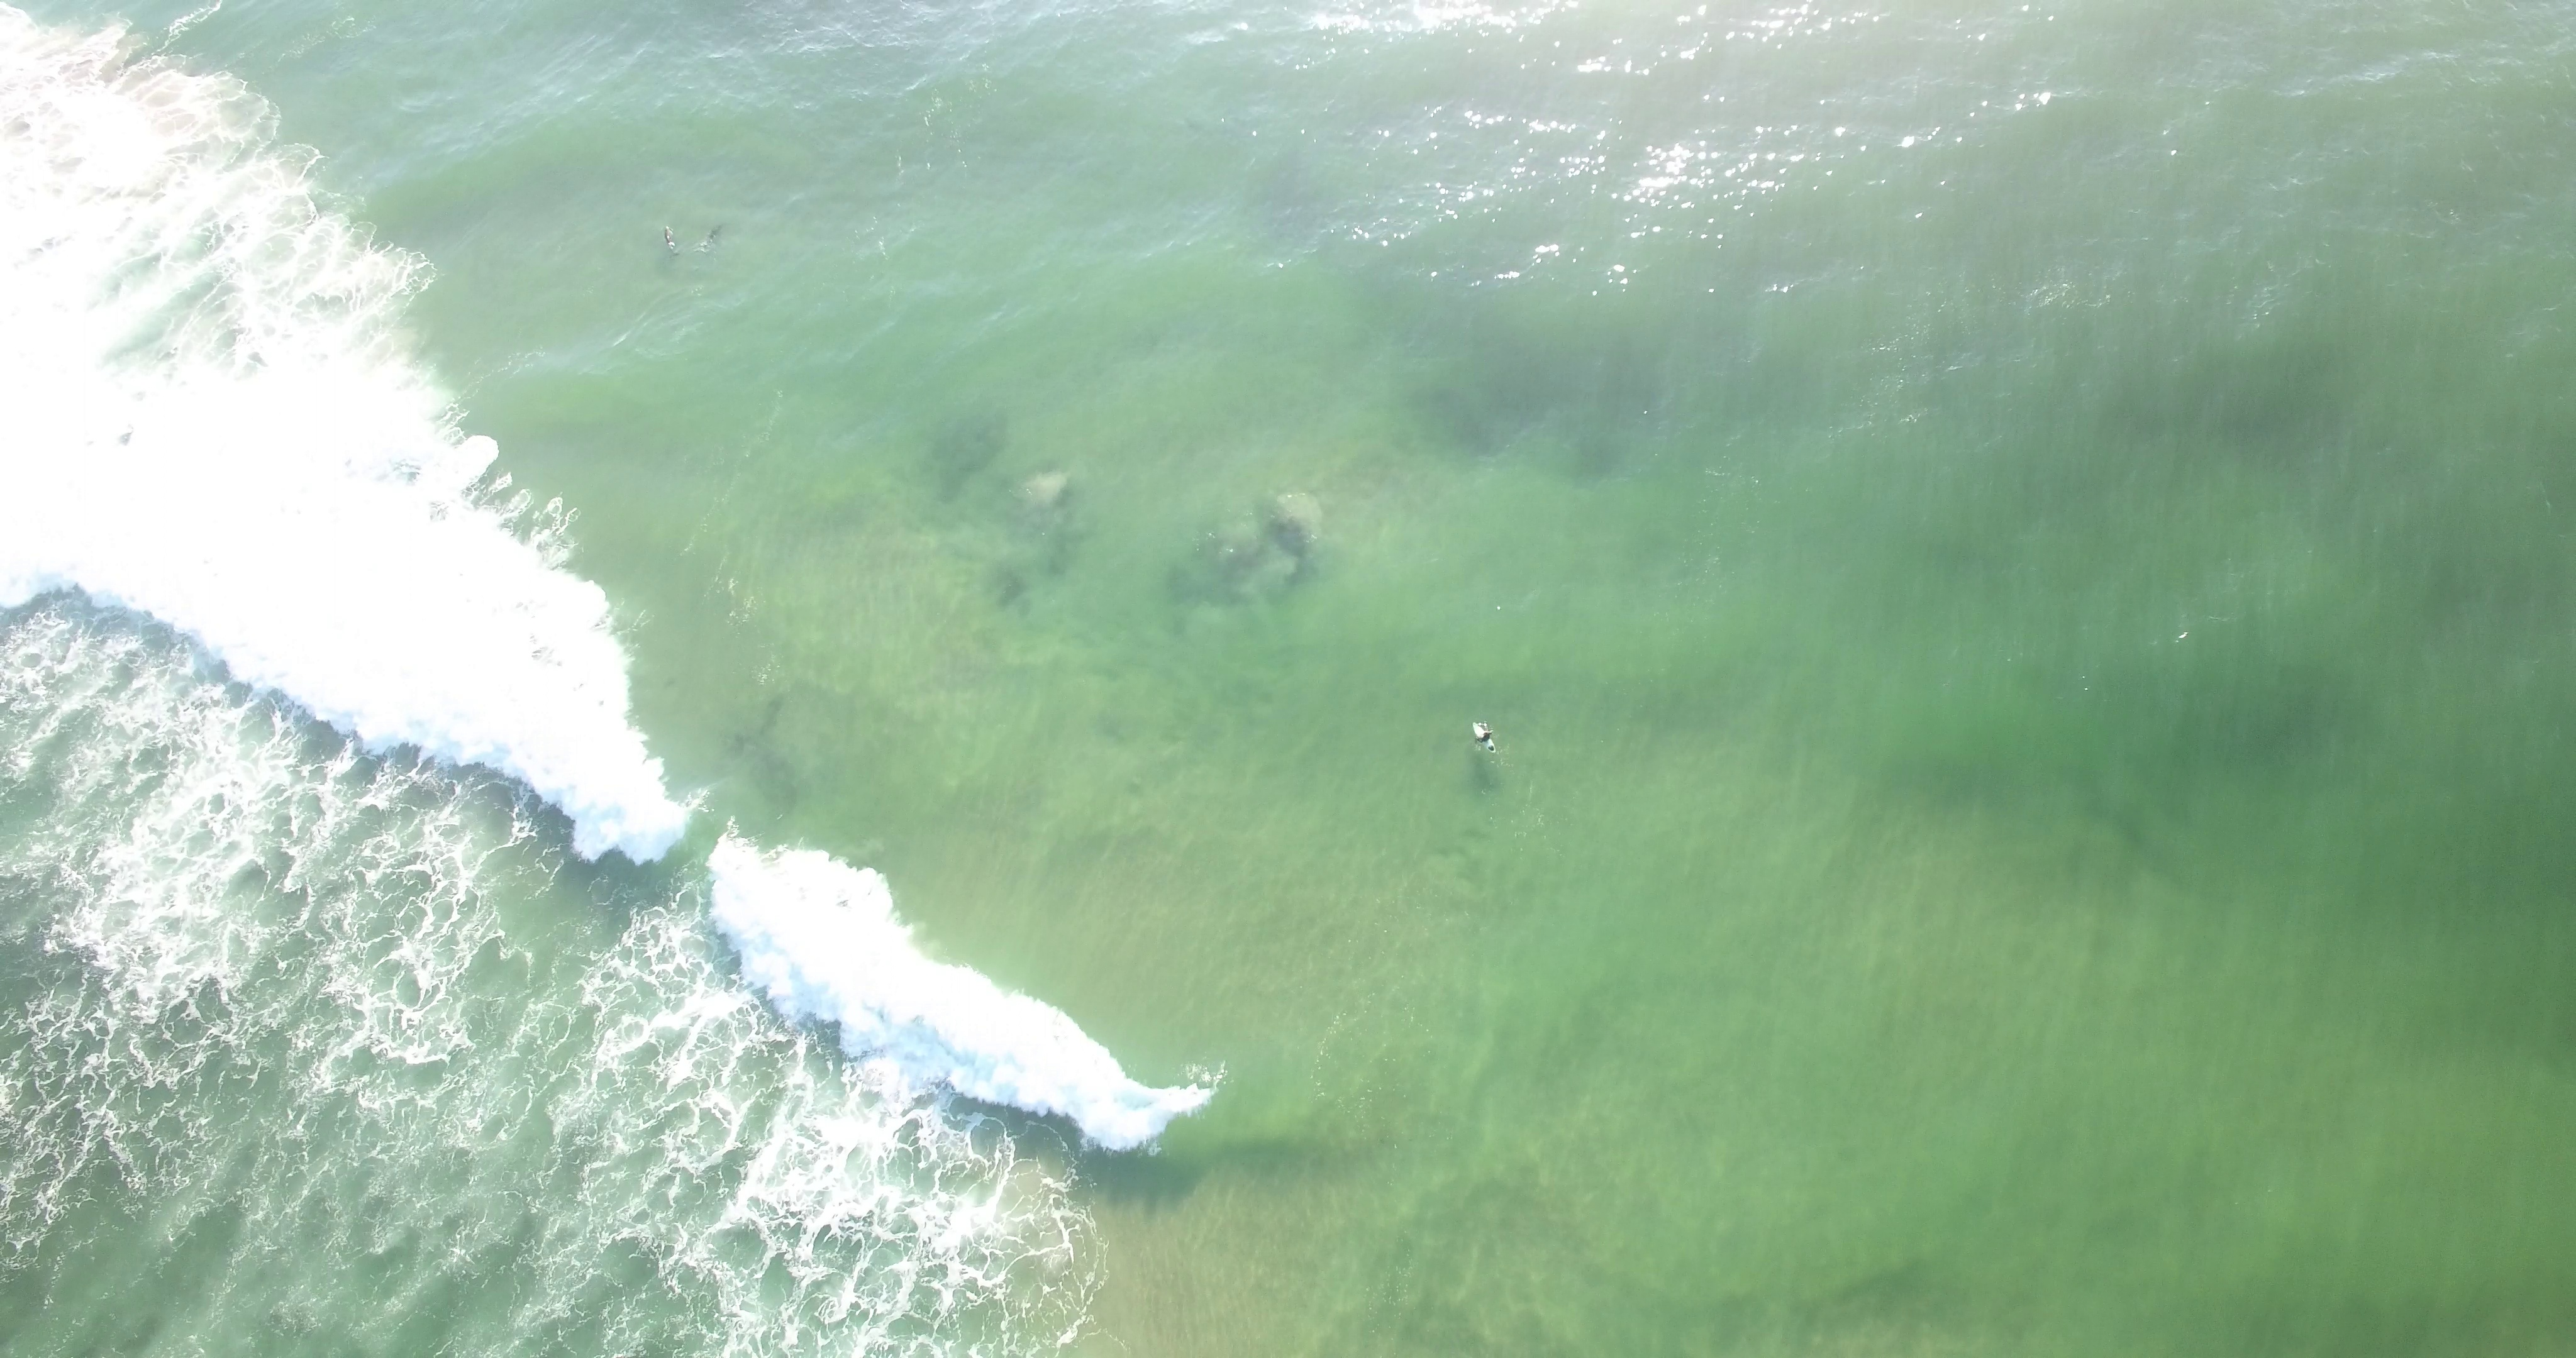dolphin: (699, 220, 727, 252), (661, 225, 681, 257)
surfer: (1469, 721, 1499, 757)
